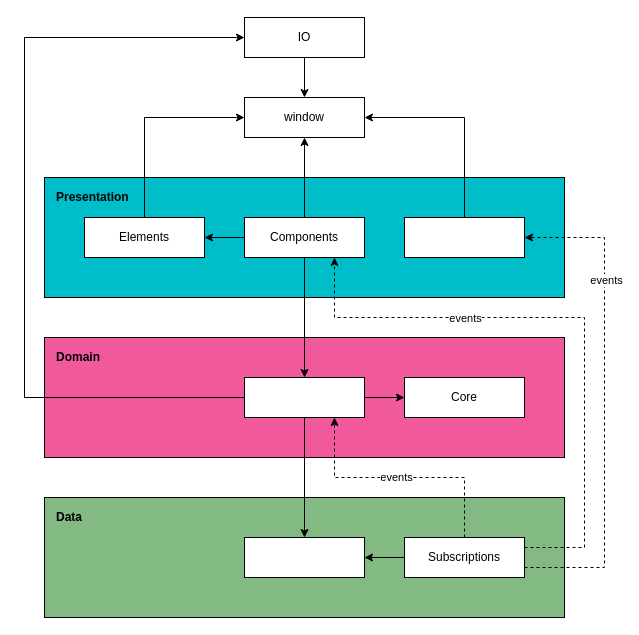
Some shapes in this 639 by 635 pixel diagram are drawn without their labels. The centre of each missing label's shape, as x and y in pixels:
"Services" goes at (x=304, y=397).
"Stores" goes at (x=304, y=557).
"Styles" goes at (x=464, y=237).
